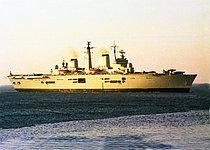MIL_Ship: (5, 48, 199, 94)
